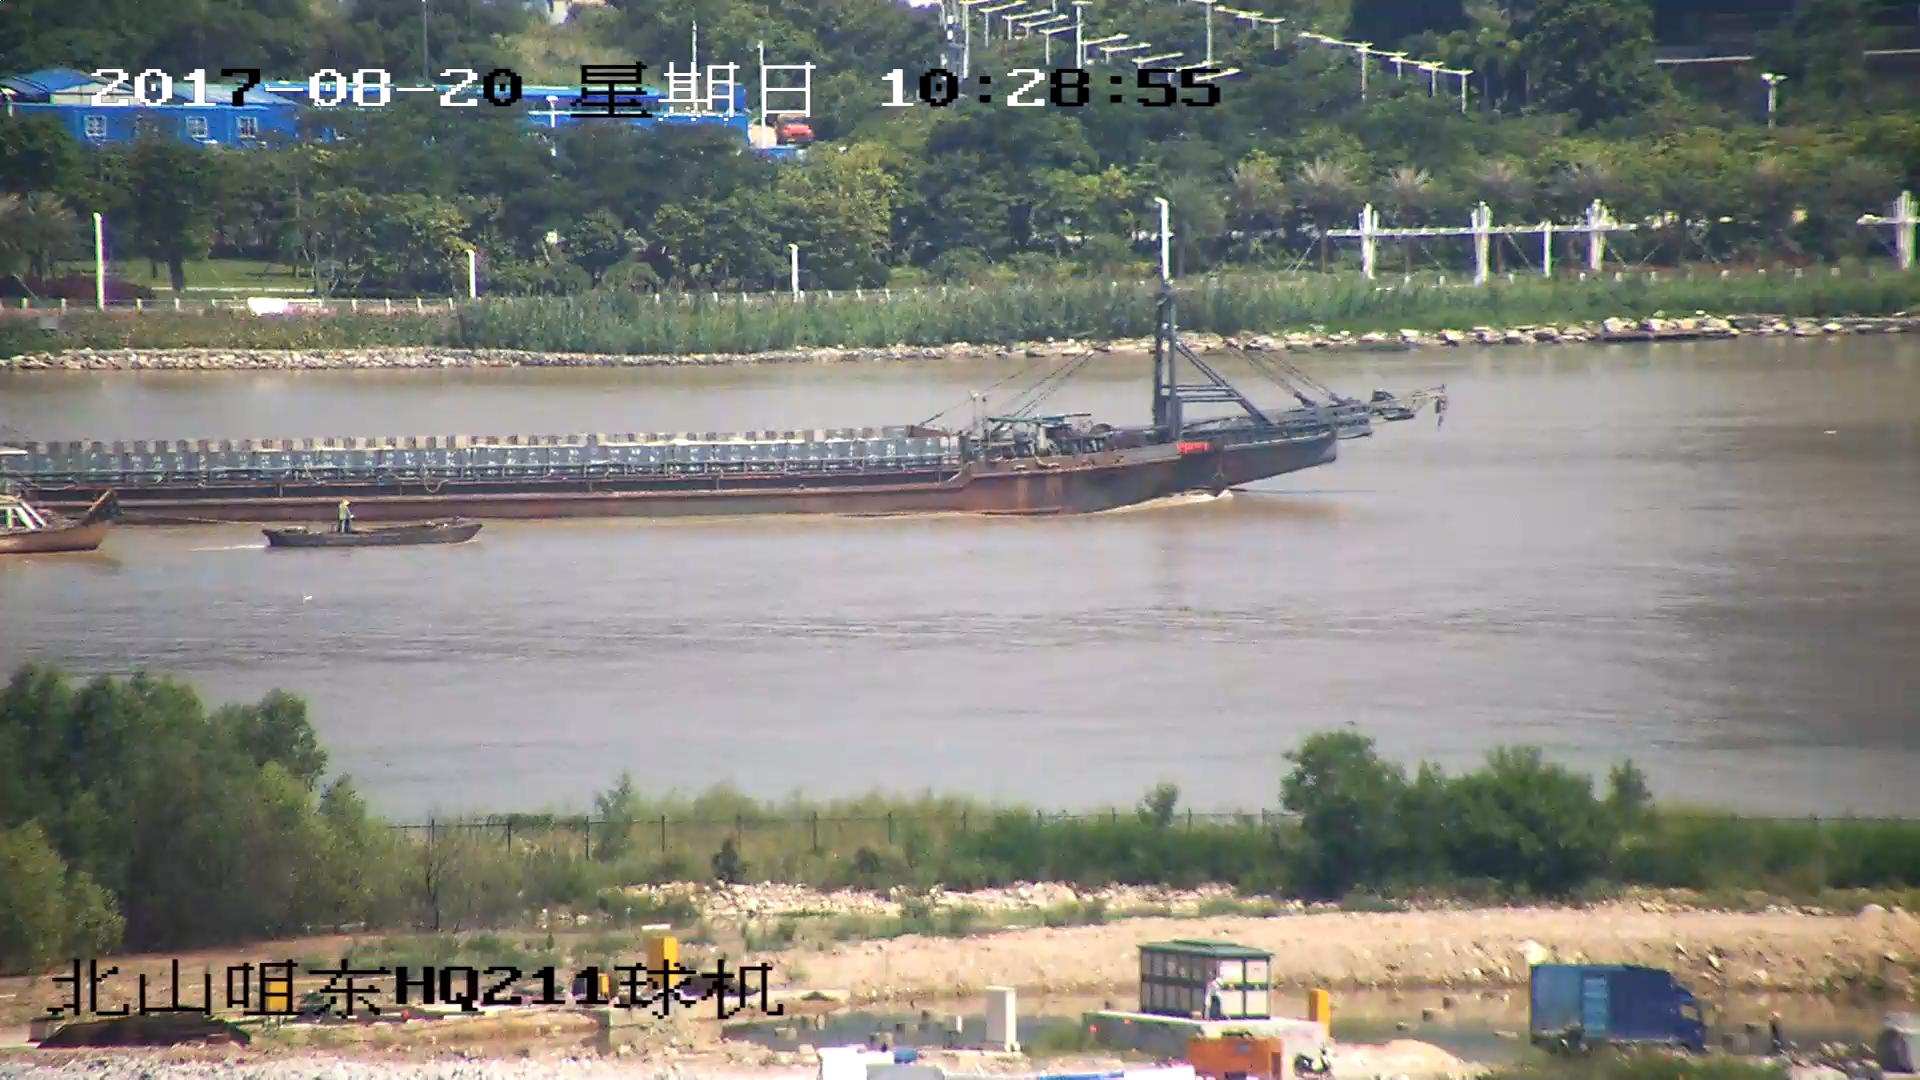fishing boat: (261, 501, 474, 552)
ore carrier: (1, 274, 1436, 521)
